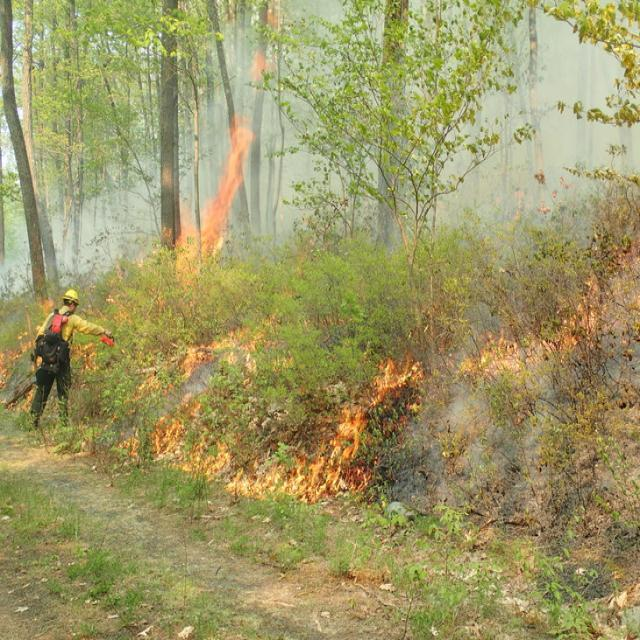Fire: (198, 125, 250, 249), (231, 456, 358, 499)
Smoke: (494, 51, 624, 181)
